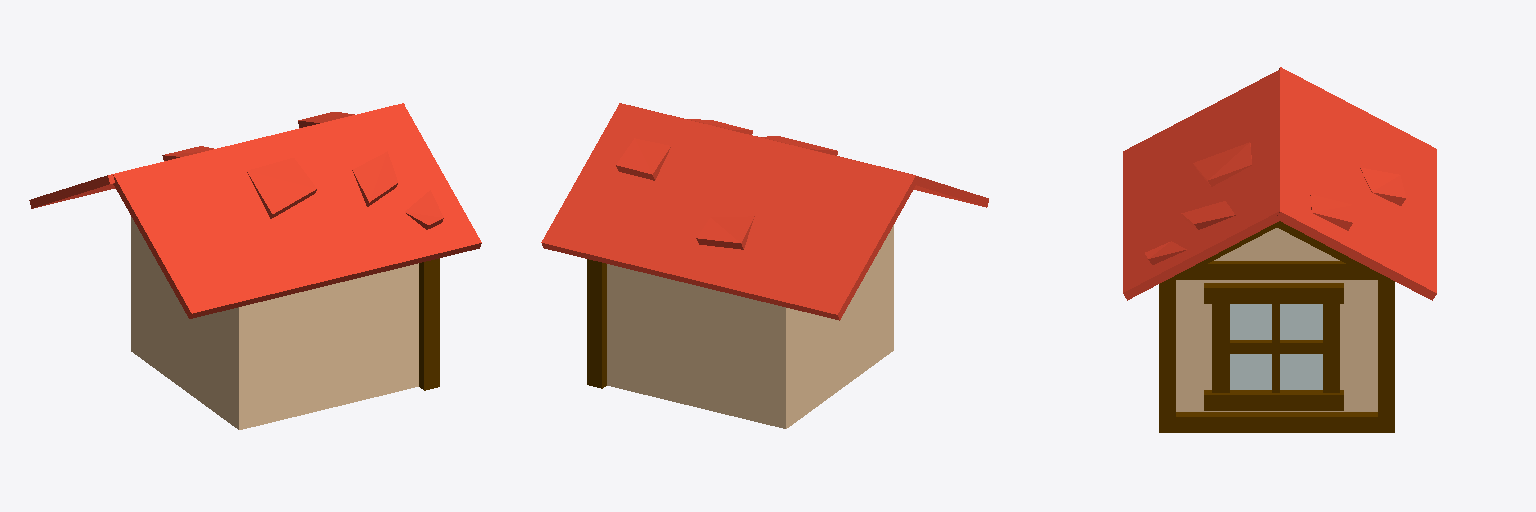
Rendered from Dormer.obj.
3 renders of one model, left to right at view 1: azimuth 30°, elevation 25°; view 2: azimuth 150°, elevation 25°; view 3: azimuth 270°, elevation 25°, orthographic.
Parts seen in each view (by area): view 1: Dormer; view 2: Dormer; view 3: Dormer.
Part boxes in pixels (bbox=[...]): Dormer: bbox=[29, 103, 481, 429]; Dormer: bbox=[541, 103, 988, 428]; Dormer: bbox=[1123, 67, 1436, 432].
Size of the model in its own units: 5.02 by 3.78 by 4.61.